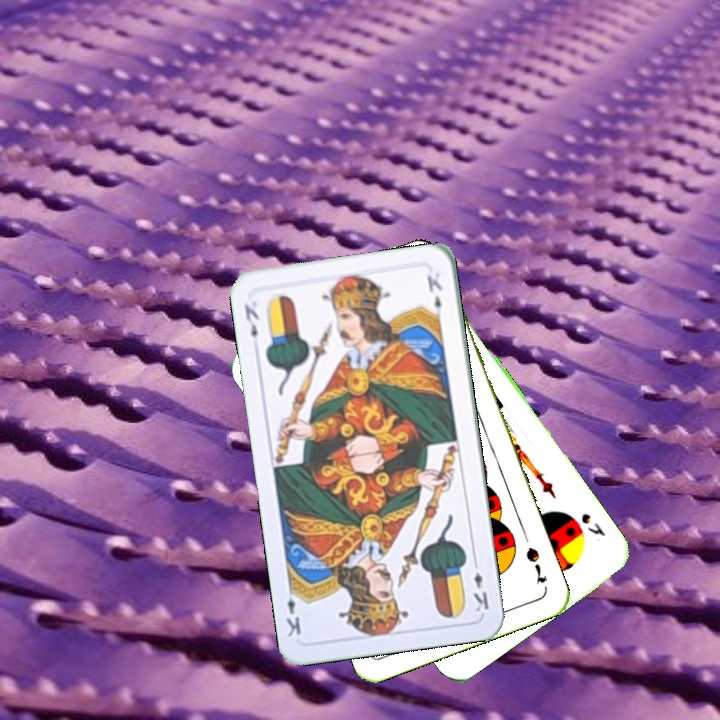EK: (469, 555, 492, 615), (240, 300, 262, 341)
S7: (521, 542, 550, 587)
SK: (577, 509, 608, 539)
